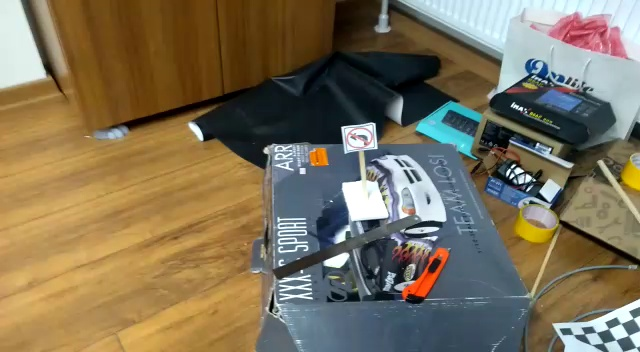sola_donulmez: (344, 122, 375, 154)
